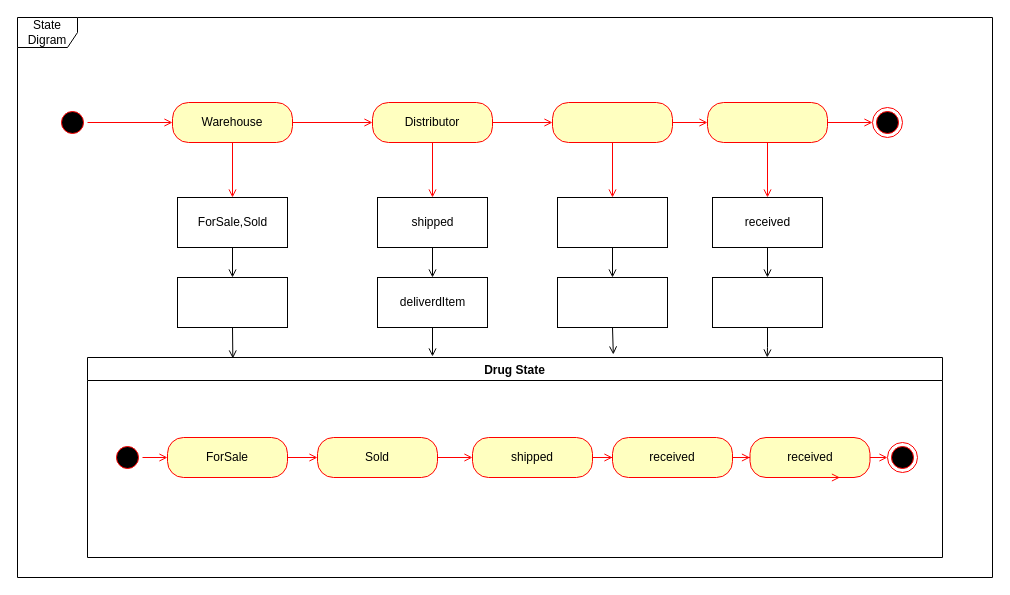
Some shapes in this 1010 by 595 pixel diagram are drawn without their labels. The box of each missing label's shape, as (x1, y1, x2, y2) in pixels:
buyItem: (712, 276, 822, 328)
Consumer: (706, 102, 828, 142)
deliverd: (556, 196, 668, 248)
Pharmacy: (552, 102, 672, 142)
receiveItem: (556, 276, 668, 328)
shipItem: (176, 276, 288, 328)
